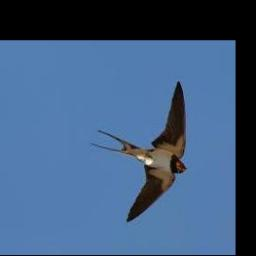Swallow: (91, 81, 188, 221)
